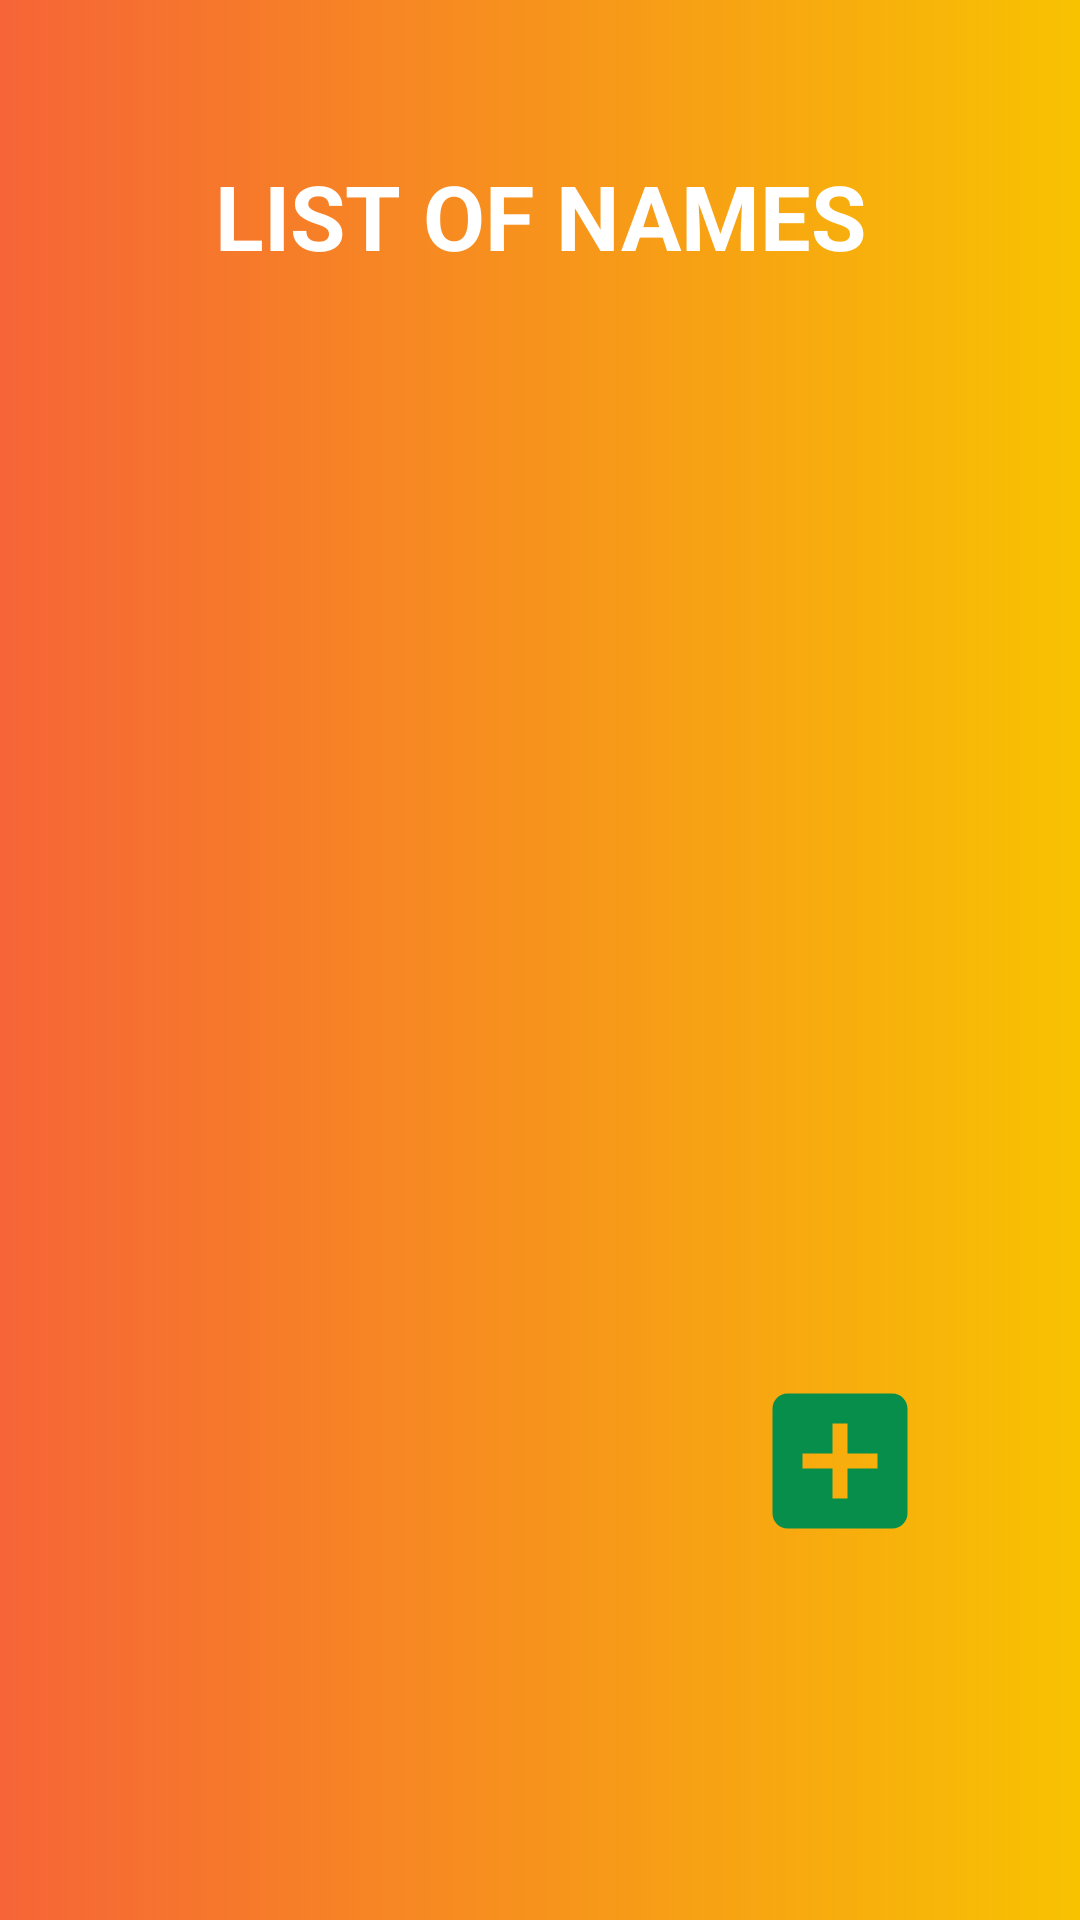

Named icons in this screenshot (1080x1920) and their centers, [x,y]:
add: [840,1461]
